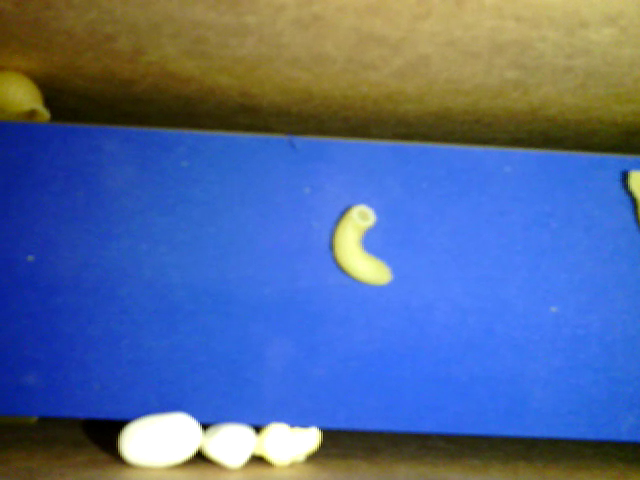elbow: (325, 205, 395, 286)
shell: (5, 64, 54, 129)
